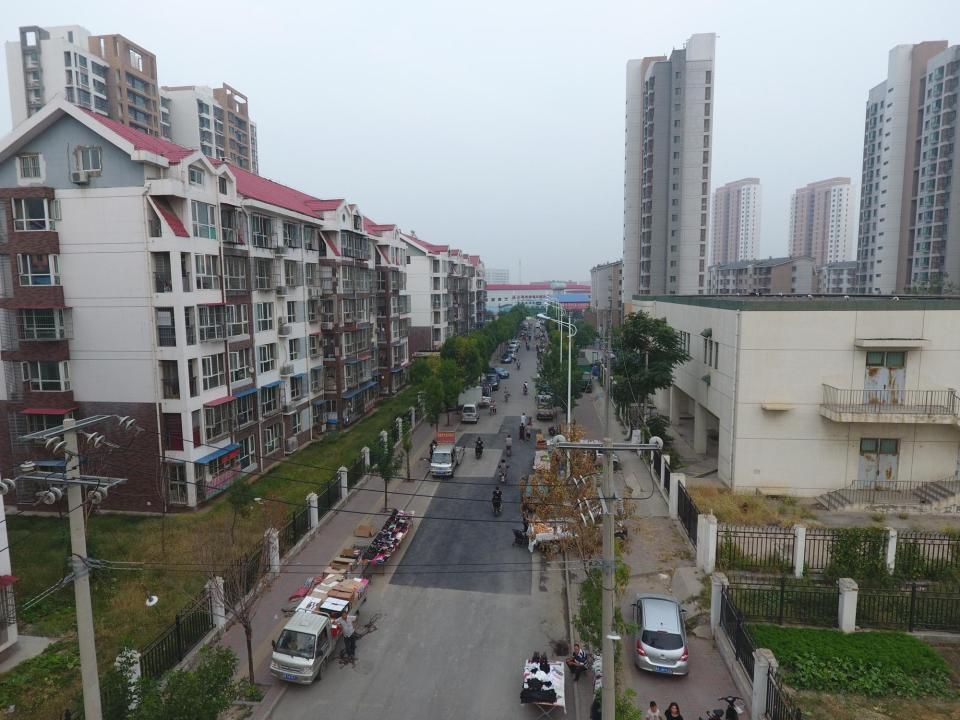car: (630, 592, 691, 676), (522, 473, 553, 511), (484, 366, 510, 378), (483, 374, 500, 391), (501, 353, 512, 363)
truck: (270, 576, 370, 685), (529, 507, 628, 554), (436, 384, 484, 413), (428, 442, 464, 478), (568, 357, 594, 390), (534, 394, 554, 420)
van: (462, 400, 480, 424)
